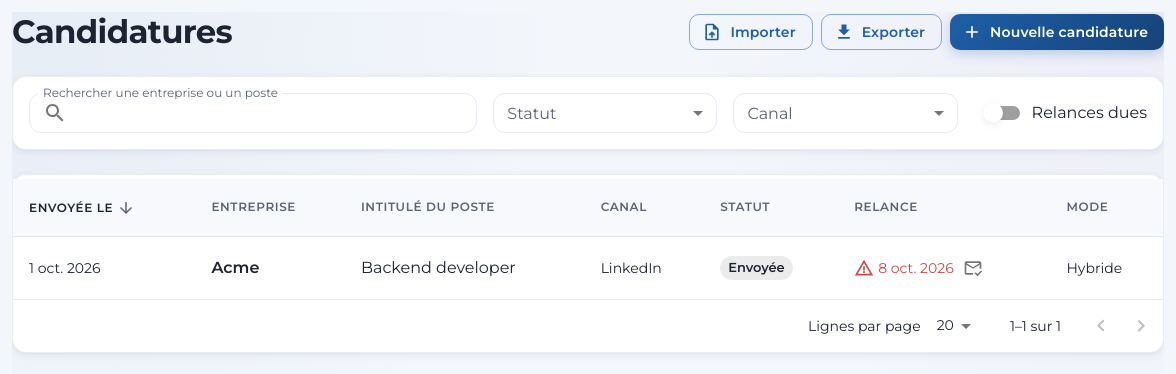
Test: ApplicationsPage › offers to export the applications next to the import
Click the button "Exporter" at {"x": 881, "y": 32}, box [821,14,942,50]
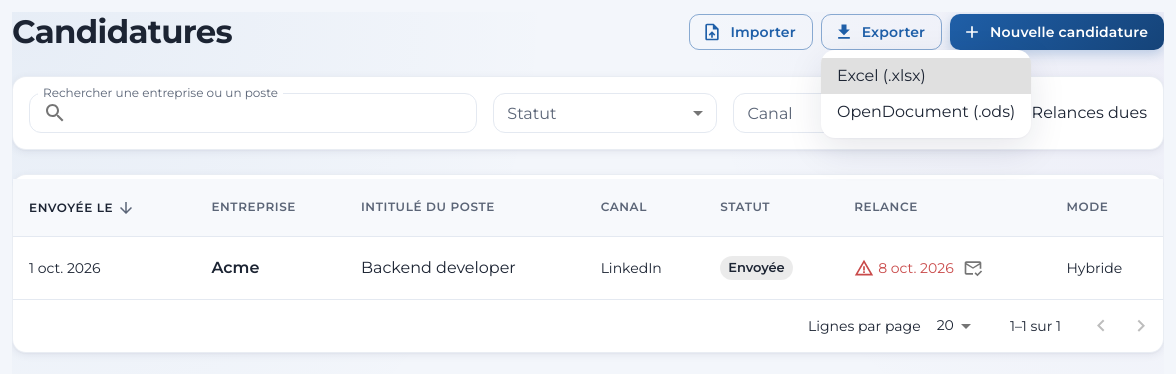
Now the menu items read "Excel (.xlsx)", "OpenDocument (.ods)", in this order, box [821,58,1031,94]; [837,102,1015,121]
